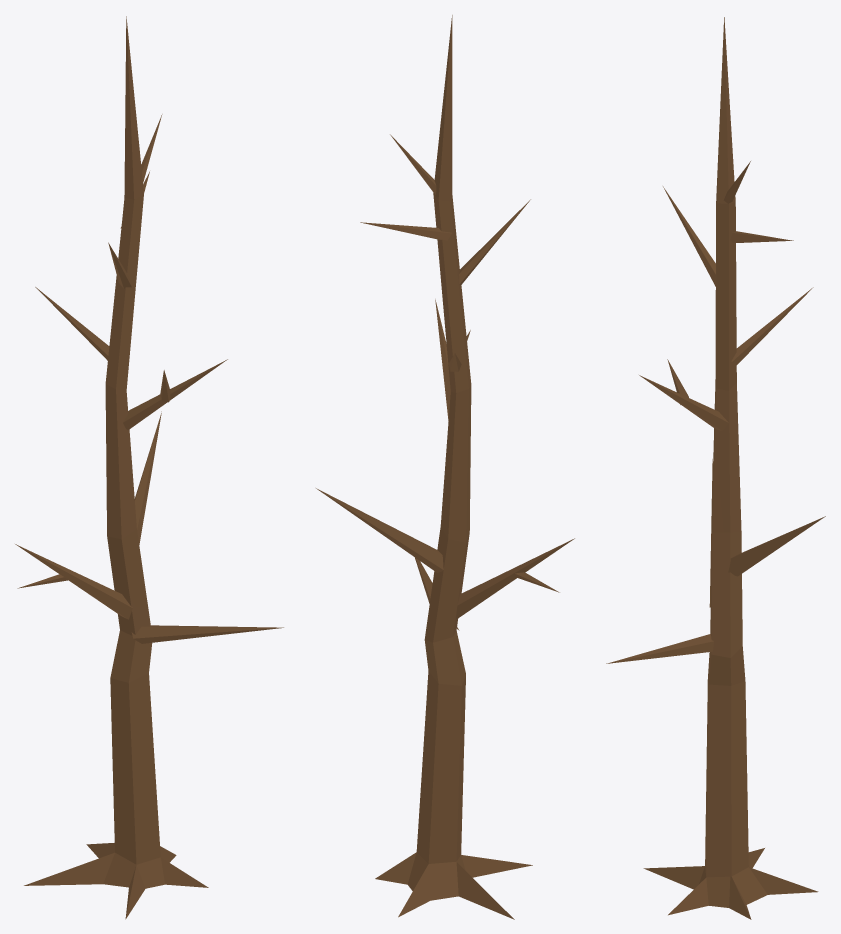
The model's file is tree-dry.glb.
The picture shows the model from 3 angles, left to right: view 1: azimuth 30°, elevation 25°; view 2: azimuth 150°, elevation 25°; view 3: azimuth 270°, elevation 25°; orthographic projection.
Parts seen in each view (by area): view 1: tree-dry; view 2: tree-dry; view 3: tree-dry.
Boxes of the visible parts, x1,y1,x2,y2 form: tree-dry: (15,16,283,919); tree-dry: (316,15,574,919); tree-dry: (606,17,825,919).
Bounding box in the file's own units: 2.21 × 8.37 × 1.92.
1 material, 1 textured.
